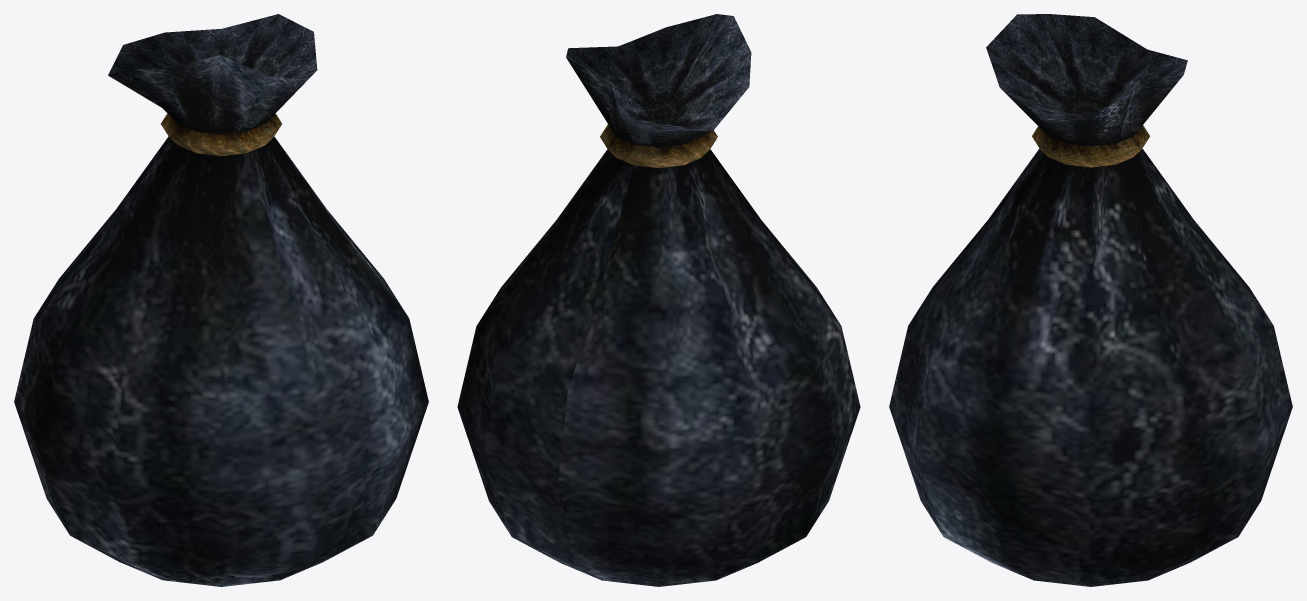
Rendered from KM_POCKET_05.glb.
The picture shows the model from 3 angles, left to right: view 1: azimuth 30°, elevation 25°; view 2: azimuth 150°, elevation 25°; view 3: azimuth 270°, elevation 25°; orthographic projection. The views are drawn at different scales.
Parts seen in each view (by area): view 1: Mesh; view 2: Mesh; view 3: Mesh.
Boxes of the visible parts, left/top/right/bottom form: Mesh: left=14, top=14, right=428, bottom=586; Mesh: left=457, top=14, right=860, bottom=586; Mesh: left=889, top=14, right=1292, bottom=586.
Size of the model in its own units: 0.2801 by 0.3871 by 0.2801.
Materials: 2 (2 with a texture image).
